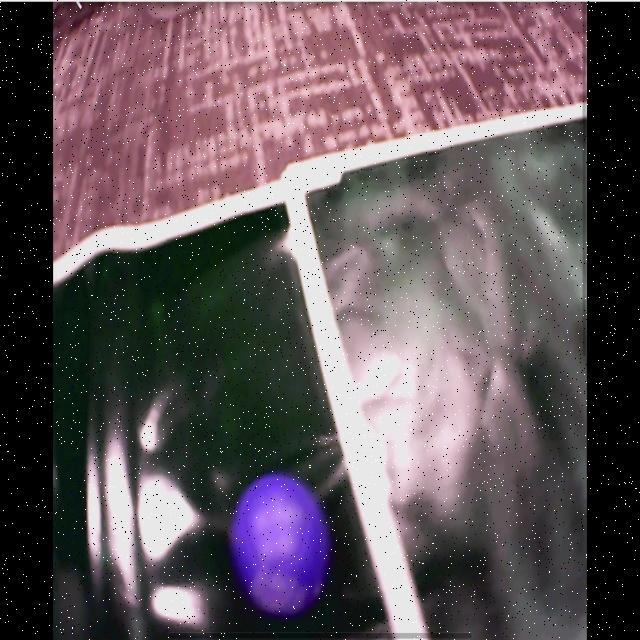ball: (232, 475, 330, 614)
